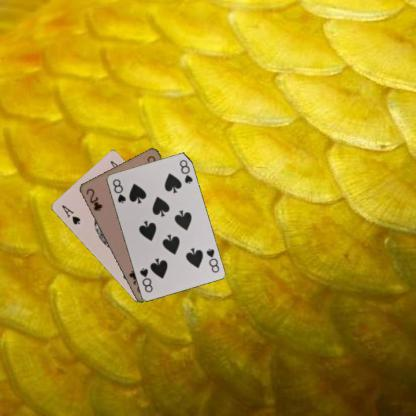2c: (84, 186, 104, 212)
8s: (110, 176, 127, 205), (204, 245, 220, 274)
As: (59, 202, 81, 226)
